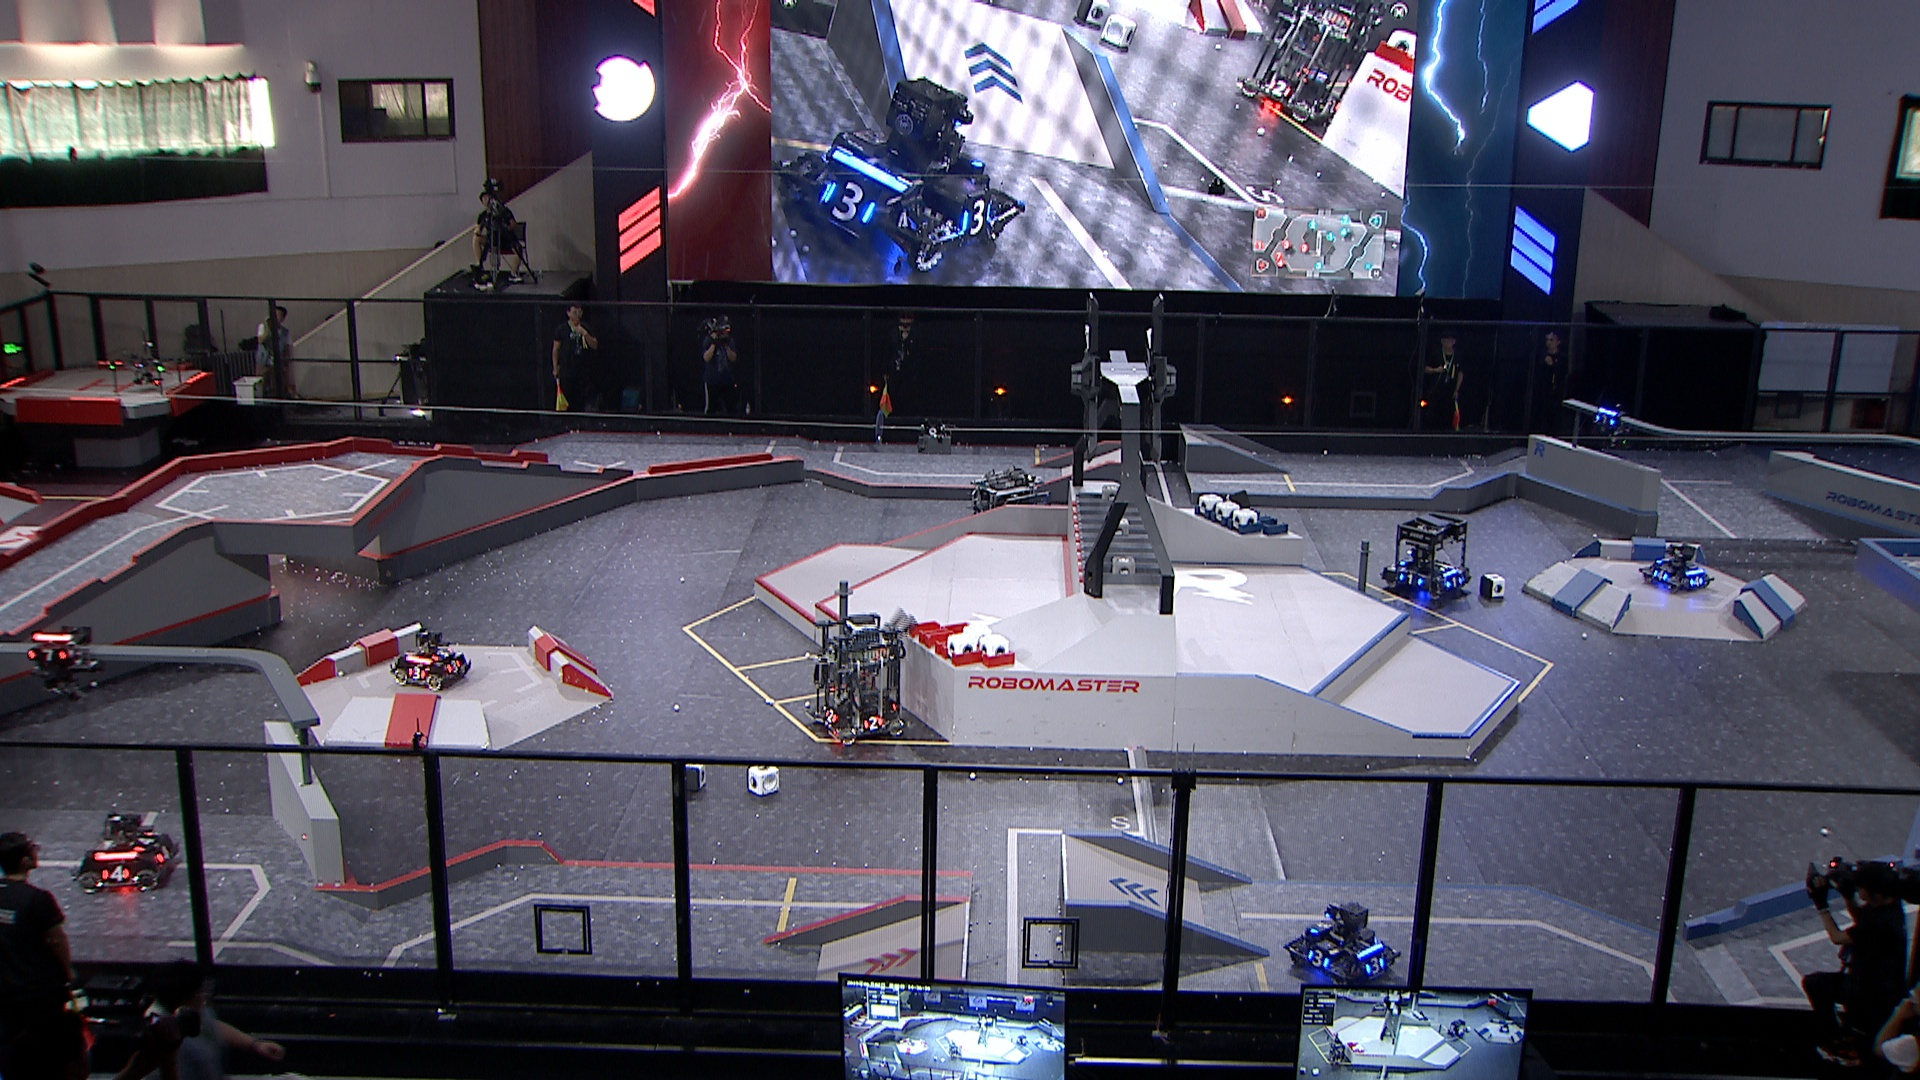armor: (29, 647, 67, 662), (136, 827, 156, 855), (102, 865, 131, 884), (1307, 920, 1333, 938), (1365, 953, 1385, 975), (1396, 572, 1419, 588), (1307, 949, 1329, 965), (156, 844, 175, 861), (433, 645, 454, 661), (406, 666, 427, 680), (862, 713, 884, 728), (1651, 567, 1669, 582), (1447, 575, 1465, 589), (822, 708, 839, 723), (444, 659, 462, 673), (1596, 413, 1614, 425), (1689, 576, 1705, 588), (1656, 553, 1673, 562)
car: (807, 612, 915, 744), (1282, 897, 1399, 982), (73, 808, 181, 893), (1381, 509, 1476, 604), (968, 465, 1063, 547), (386, 622, 471, 688), (1638, 531, 1714, 597)
ignore: (771, 79, 1021, 276), (1324, 1039, 1348, 1068), (1447, 1015, 1472, 1040), (1494, 1017, 1513, 1036), (944, 1040, 963, 1058), (1013, 1034, 1030, 1048)
watcher: (21, 624, 100, 707), (1586, 396, 1634, 447)
